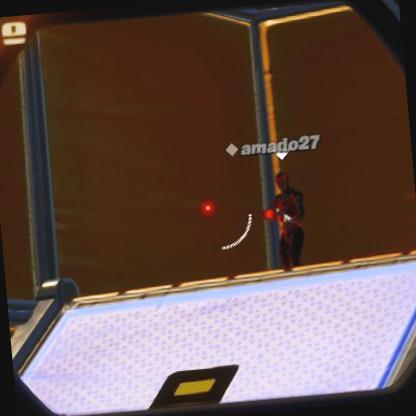person: (262, 168, 311, 272)
